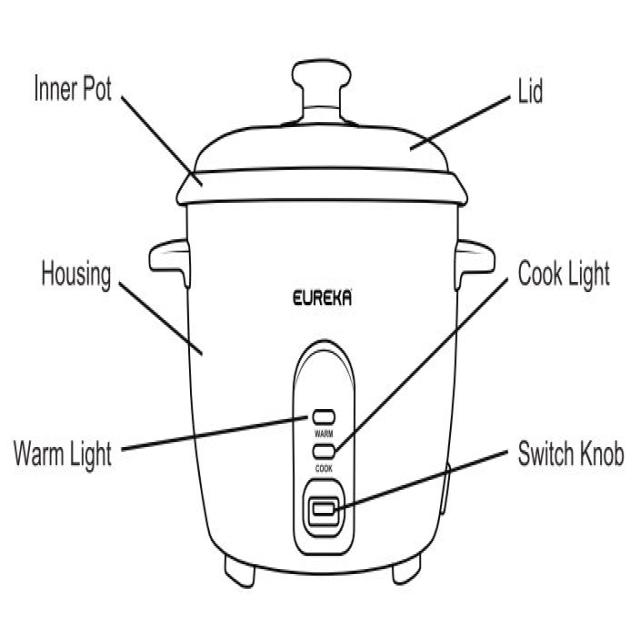appliances: (148, 58, 494, 586)
